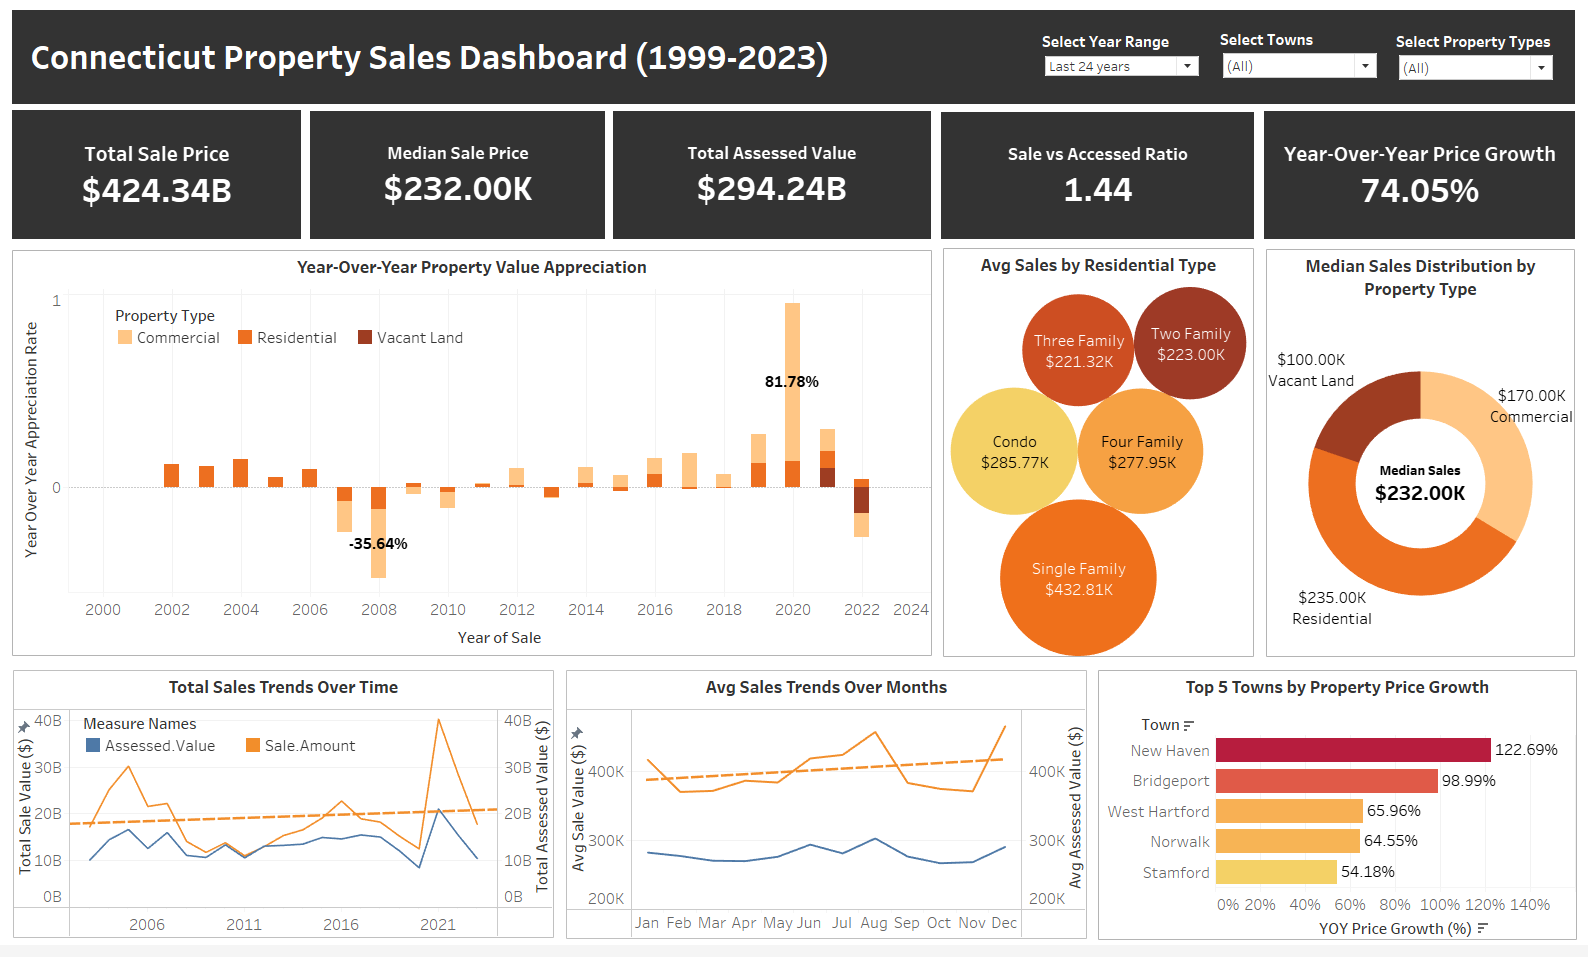

What the dashboard file says about the page in this screenshot:
{"tool":"tableau","page":{"name":"Dashboard 1","canvas":[1600,950],"ordinal":0},"visuals":[{"type":"text","box":[32,21,819,79]},{"type":"filter","title":"Top 5 Towns by Property Price Growth","param":"[federated.0p8kduw0me3dyq1a08nzg0vanntb].[none:Town:nk]","box":[1225,34,160,52]},{"type":"filter","title":"Total Sales Trends Over Time","param":"[federated.0p8kduw0me3dyq1a08nzg0vanntb].[tyr:Date.Recorded:qk]","box":[1047,36,160,52]},{"type":"filter","title":"Year-Over-Year Property Value Appreciation","param":"[federated.0p8kduw0me3dyq1a08nzg0vanntb].[Property.Type (group)]","box":[1401,36,160,52]},{"type":"worksheet","title":"Total Sale Price","mark":"Text","box":[17,115,289,129]},{"type":"worksheet","title":"Median Sale Price","mark":"Text","box":[315,116,295,128]},{"type":"worksheet","title":"Total Assessed Value","mark":"Text","box":[618,116,318,128]},{"type":"worksheet","title":"YOY Price Growth","mark":"Text","box":[1269,116,311,128]},{"type":"worksheet","title":"Sale vs Accessed Ratio","mark":"Text","box":[946,117,313,127]},{"type":"worksheet","title":"Avg Sales by Residential Type","mark":"Circle","box":[948,253,311,409]},{"type":"worksheet","title":"Median Sales Distribution by Property Type","mark":"Pie","rows":["Calculation_2250955434595057666","Calculation_2250955434595057666"],"box":[1271,254,309,408]},{"type":"worksheet","title":"Year-Over-Year Property Value Appreciation","mark":"Bar","rows":["Calculation_184084676691566594"],"cols":["List.Year"],"box":[17,255,920,406]},{"type":"legend","title":"Year-Over-Year Property Value Appreciation","param":"[federated.0p8kduw0me3dyq1a08nzg0vanntb].[Property.Type (group)]","box":[120,310,392,57]},{"type":"worksheet","title":"Total Sales Trends Over Time","mark":"Automatic","rows":["Sale.Amount","Assessed.Value"],"cols":["Date.Recorded"],"box":[18,675,541,268]},{"type":"worksheet","title":"Avg Sales Trends Over Months","mark":"Line","rows":["Sale.Amount","Assessed.Value"],"cols":["Date.Recorded"],"box":[571,675,521,269]},{"type":"worksheet","title":"Top 5 Towns by Property Price Growth","mark":"Bar","rows":["Town"],"cols":["Calculation_184084676698931203"],"box":[1103,675,479,270]},{"type":"legend","title":"Total Sales Trends Over Time","param":"[federated.0p8kduw0me3dyq1a08nzg0vanntb].[:Measure Names]","box":[88,718,336,52]}]}

Visuals, with their boxes in screenshot pixels (x1, y1, x2, y2), scaled from the page's 1600x950 canvas onto the 1588x957 screenshot:
text: l=32, t=21, r=845, b=101
"Top 5 Towns by Property Price Growth" filter: l=1216, t=34, r=1375, b=87
"Total Sales Trends Over Time" filter: l=1039, t=36, r=1198, b=89
"Year-Over-Year Property Value Appreciation" filter: l=1390, t=36, r=1549, b=89
"Total Sale Price" worksheet (Text marks): l=17, t=116, r=304, b=246
"Median Sale Price" worksheet (Text marks): l=313, t=117, r=605, b=246
"Total Assessed Value" worksheet (Text marks): l=613, t=117, r=929, b=246
"YOY Price Growth" worksheet (Text marks): l=1259, t=117, r=1568, b=246
"Sale vs Accessed Ratio" worksheet (Text marks): l=939, t=118, r=1250, b=246
"Avg Sales by Residential Type" worksheet (Circle marks): l=941, t=255, r=1250, b=667
"Median Sales Distribution by Property Type" worksheet (Pie marks): l=1261, t=256, r=1568, b=667
"Year-Over-Year Property Value Appreciation" worksheet (Bar marks): l=17, t=257, r=930, b=666
"Year-Over-Year Property Value Appreciation" legend: l=119, t=312, r=508, b=370
"Total Sales Trends Over Time" worksheet: l=18, t=680, r=555, b=950
"Avg Sales Trends Over Months" worksheet (Line marks): l=567, t=680, r=1084, b=951
"Top 5 Towns by Property Price Growth" worksheet (Bar marks): l=1095, t=680, r=1570, b=952
"Total Sales Trends Over Time" legend: l=87, t=723, r=421, b=776
